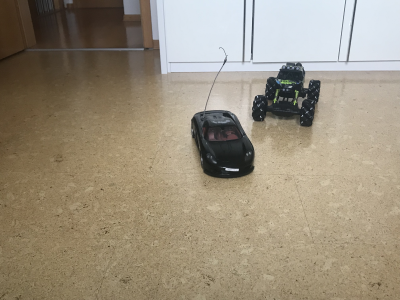remote control car: (250, 54, 325, 127)
